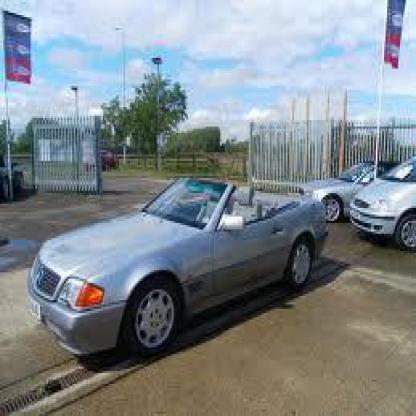Vehicle: (29, 180, 329, 358)
